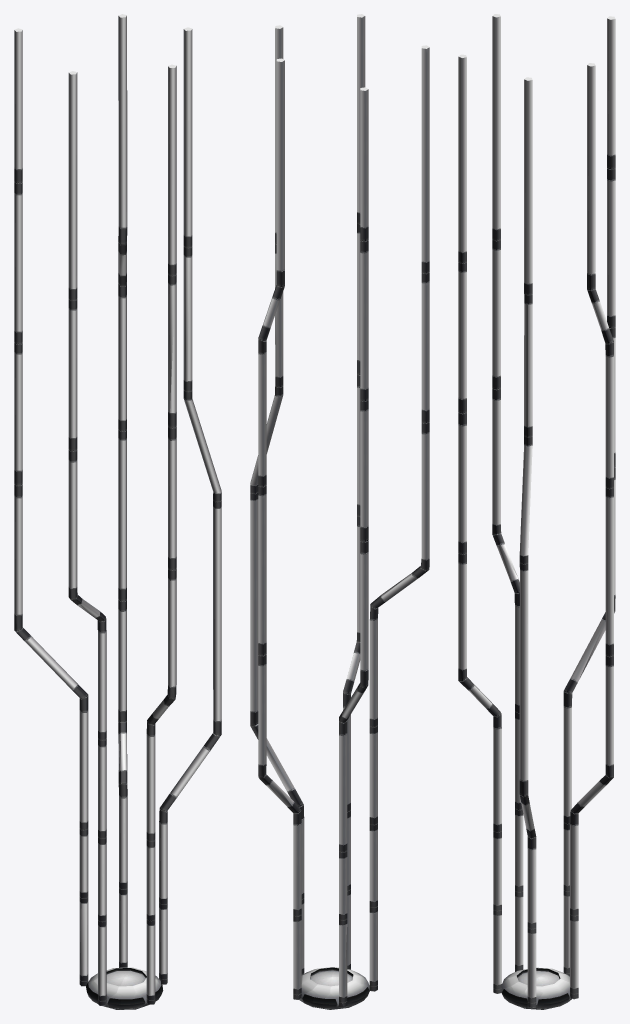
File: seapylon.obj
3 views of the same model, side by side, from view 1: azimuth 30°, elevation 25°; view 2: azimuth 150°, elevation 25°; view 3: azimuth 270°, elevation 25° (orthographic).
Visible parts, largest first — view 1: D_3; view 2: D_3; view 3: D_3.
Part boxes in pixels (x1,y1,x2,y2): D_3: [14, 14, 221, 1009]; D_3: [250, 14, 429, 1009]; D_3: [458, 14, 615, 1009].
Bounding box in the file's own units: 3 × 16.62 × 2.49.
